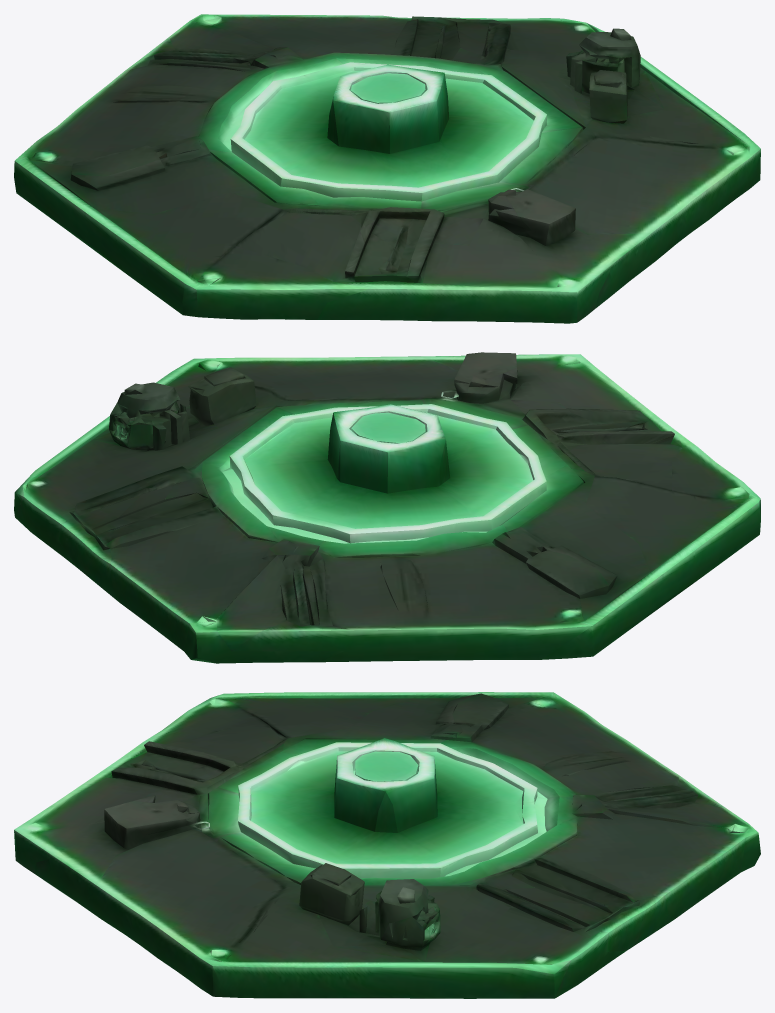
File: landingPadV2.glb
3 views of the same model, one above another, from view 1: azimuth 30°, elevation 25°; view 2: azimuth 150°, elevation 25°; view 3: azimuth 270°, elevation 25° (orthographic). The views are drawn at different scales.
Visible parts, largest first — view 1: model; view 2: model; view 3: model.
Boxes of the visible parts, <box> form: model: <box>14,14,760,323</box>; model: <box>14,352,760,663</box>; model: <box>14,692,760,998</box>.
Bounding box in the file's own units: 1.67 × 0.287 × 1.91.
Materials: 1 (1 with a texture image).
